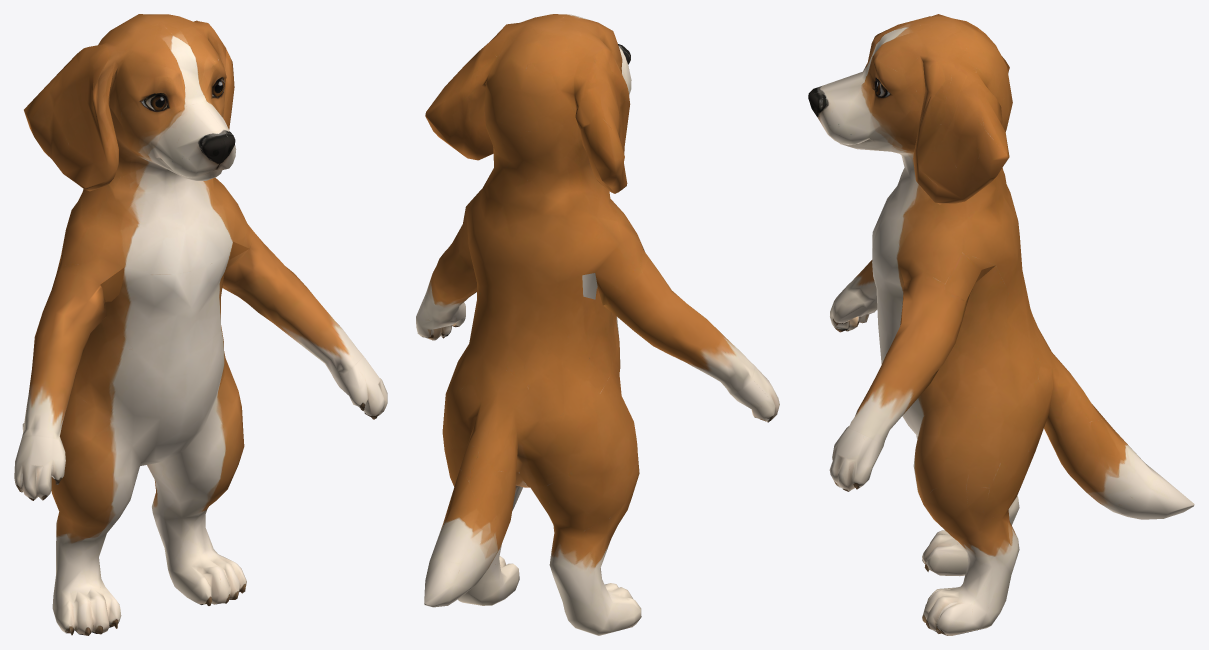
File: dog-arms.glb
3 views of the same model, side by side, from view 1: azimuth 30°, elevation 25°; view 2: azimuth 150°, elevation 25°; view 3: azimuth 270°, elevation 25° (orthographic). The views are drawn at different scales.
Visible parts, largest first — view 1: dog; view 2: dog; view 3: dog.
Boxes of the visible parts, <box> form: dog: <box>14,14,387,635</box>; dog: <box>416,14,779,635</box>; dog: <box>808,14,1194,635</box>.
Size of the model in its own units: 1.23 by 1.9 by 1.17.
1 material, 1 textured.
